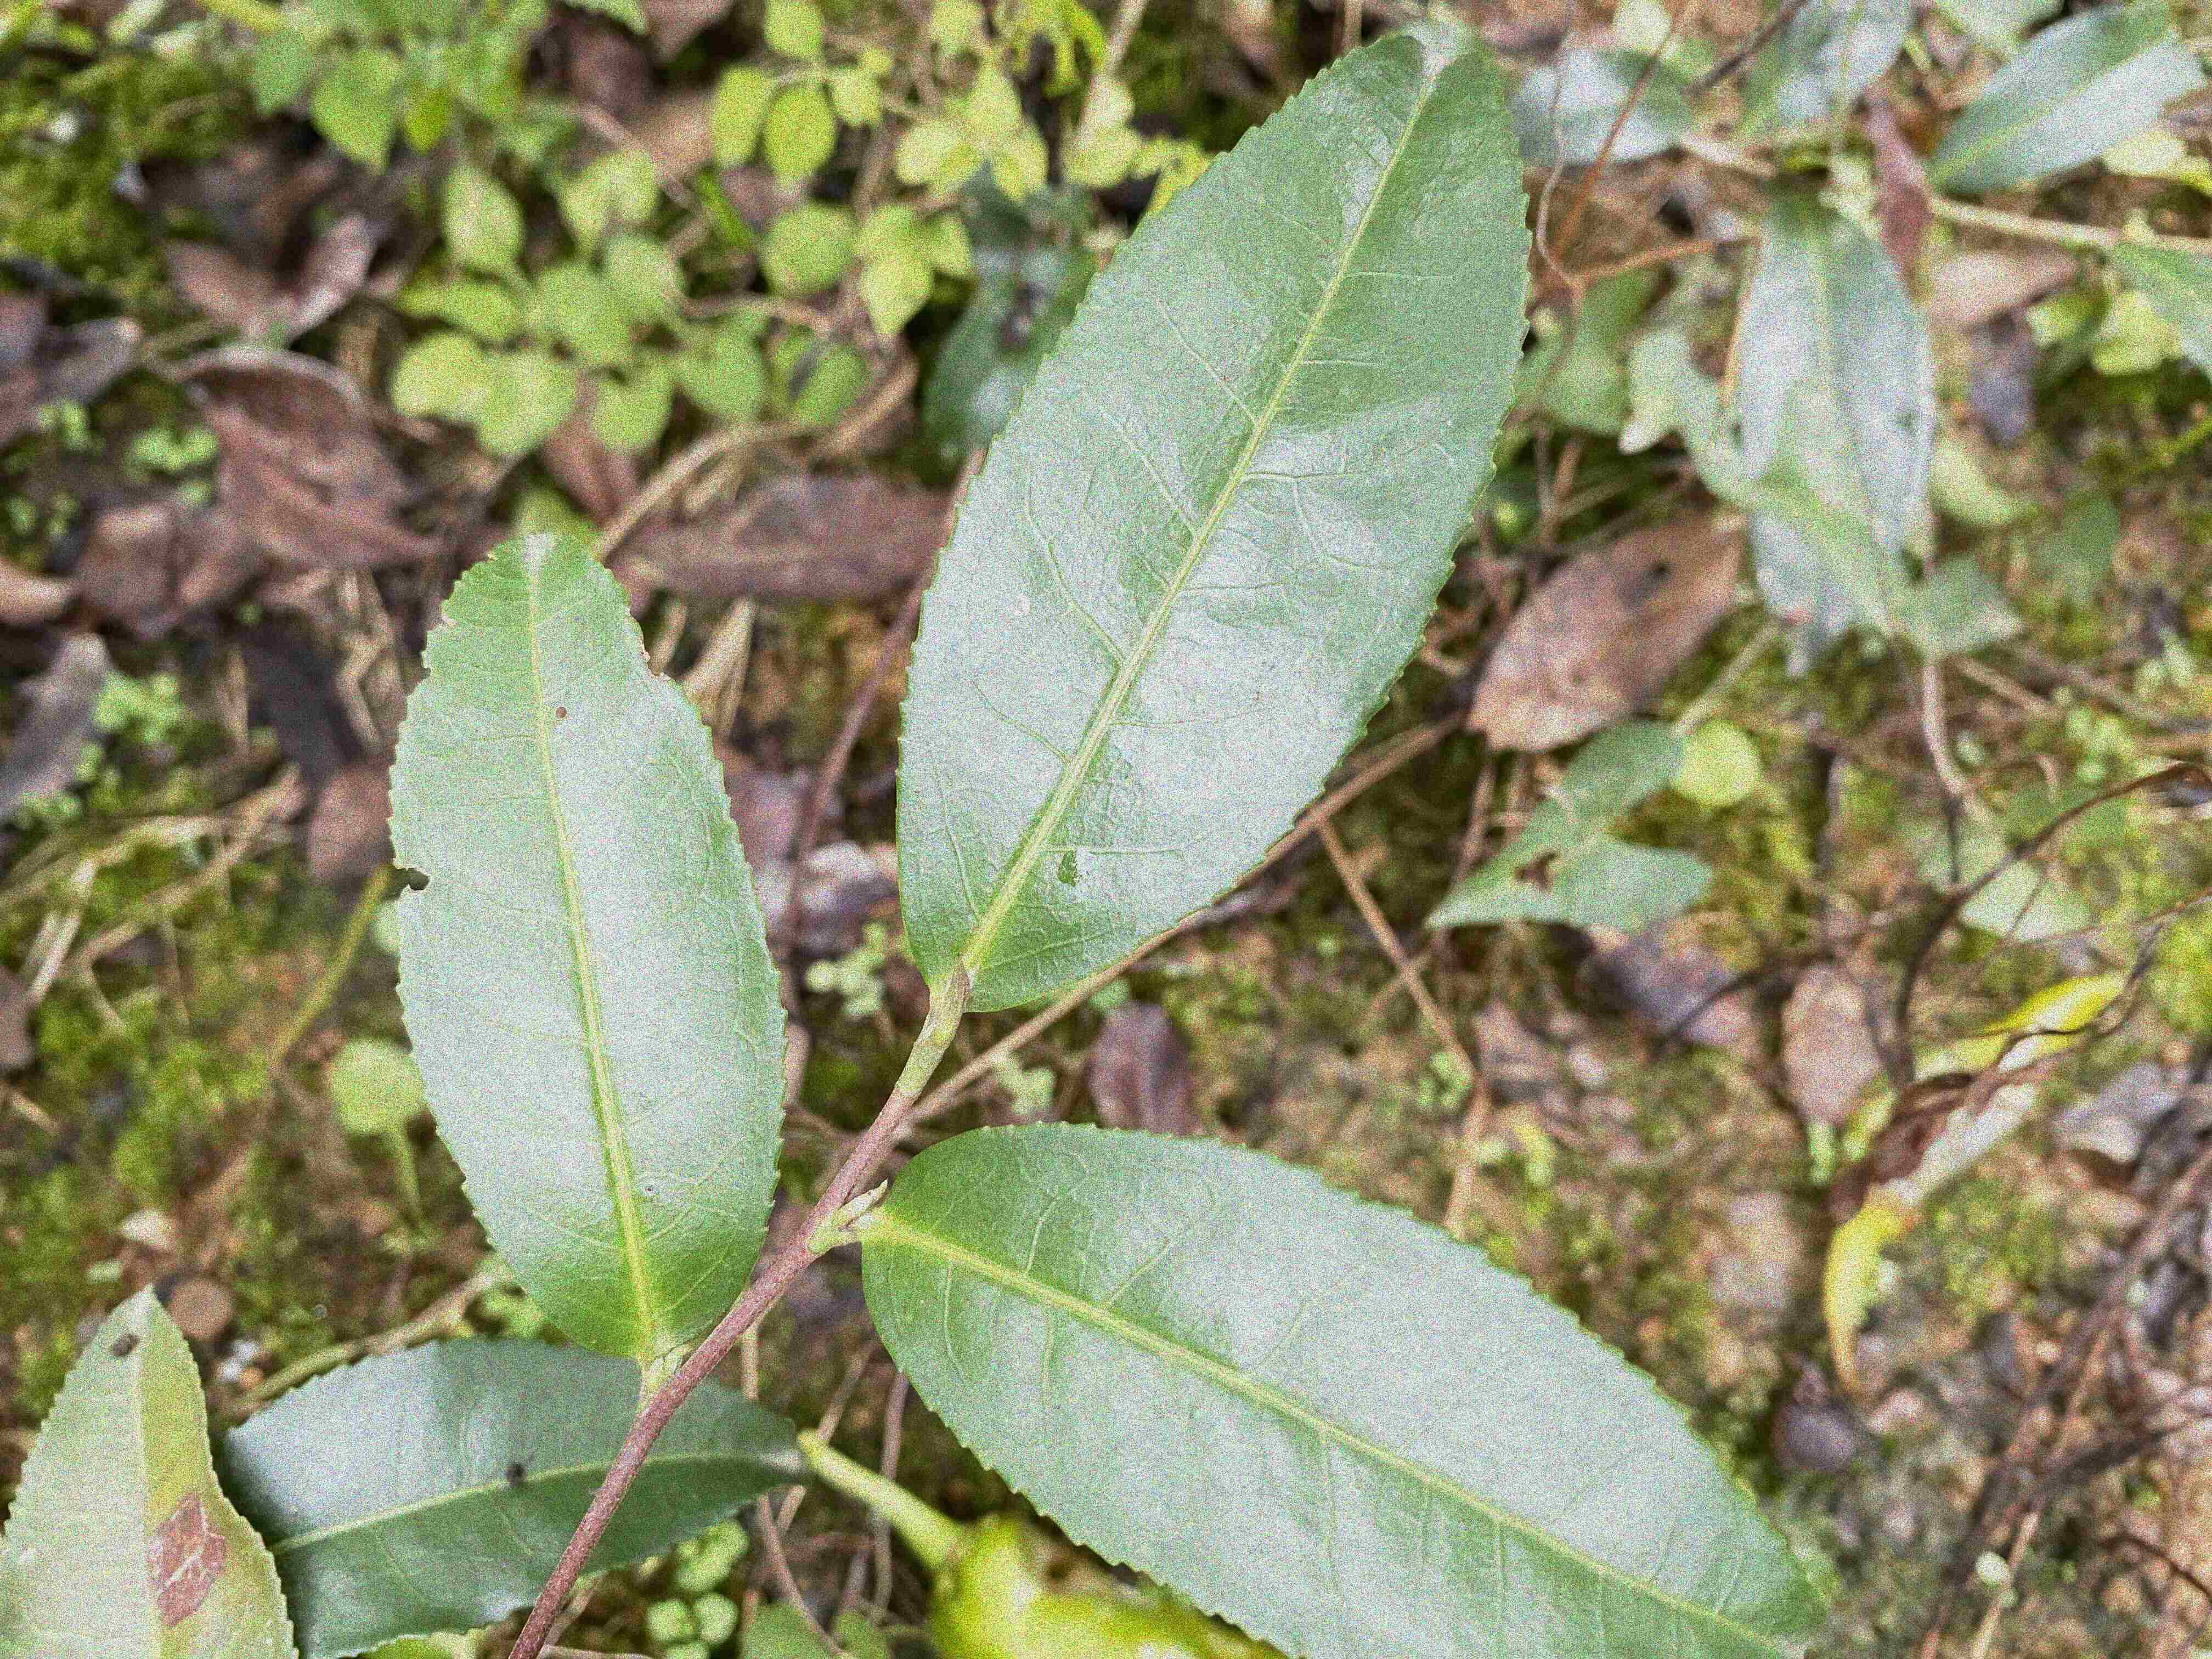chihuo_high: (388, 526, 791, 1361)
tanju_high: (3, 1276, 301, 1654)
tanju_low: (894, 33, 1540, 1016), (859, 1112, 1813, 1654), (233, 1342, 819, 1650)
